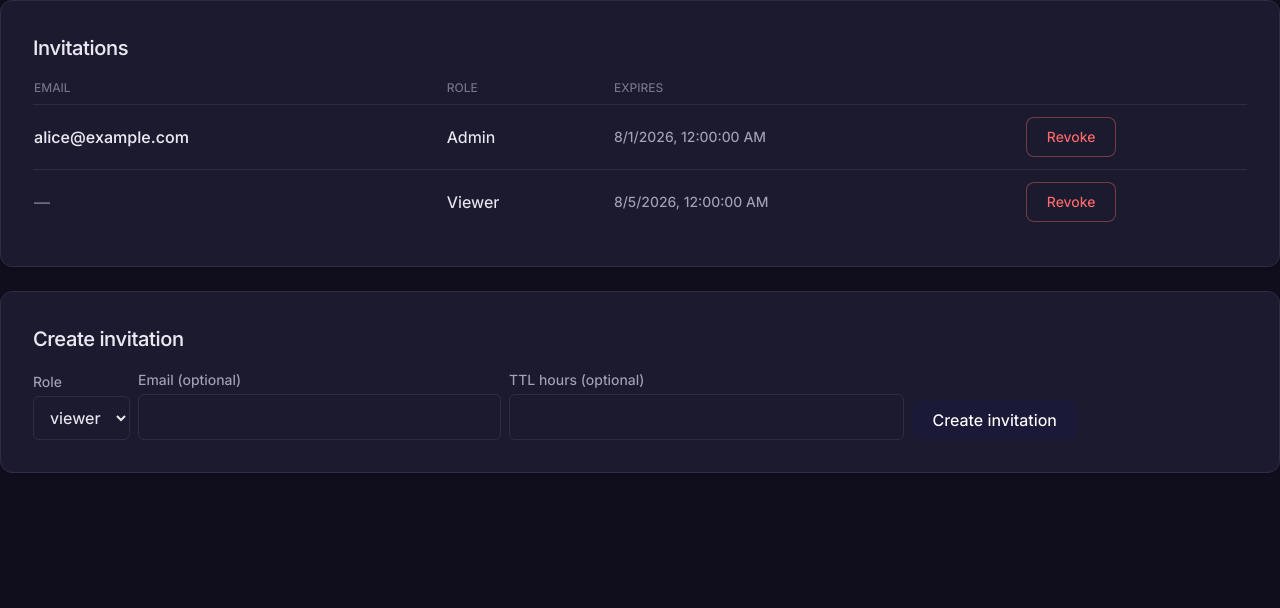
Scenario: OrgInvitations › creating an invitation POSTs and shows the invite link once
Expected: the text "alice@example.com" is shown, [33,104,446,170]
Select "viewer" in the dropdown labelled "Role": (82, 418) [33,396,130,440]
Click the button "Create invitation": (995, 420) [912,400,1077,440]
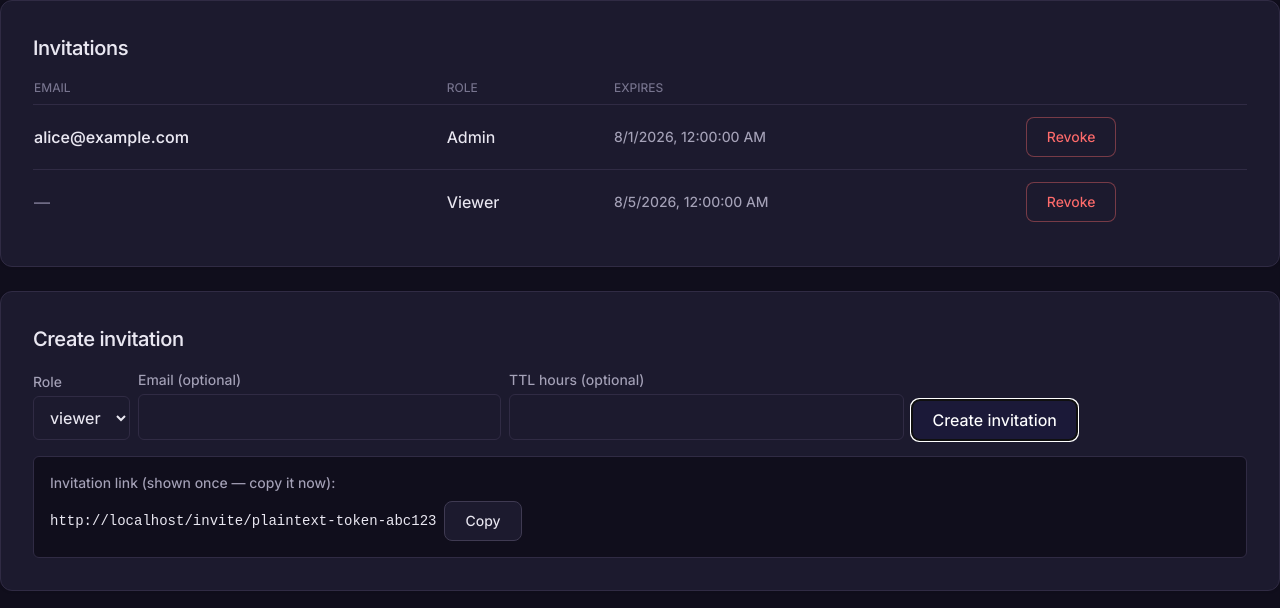
Expected: the text "http://localhost/invite/plaintext-token-abc123" is shown, [50,511,436,531]
